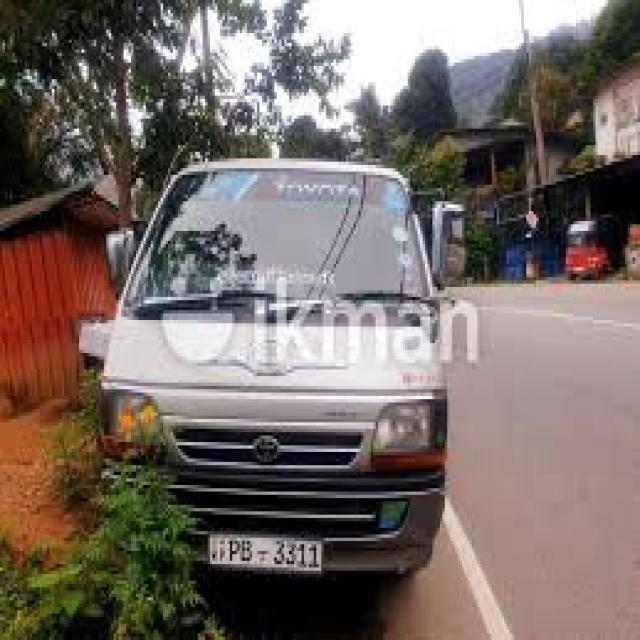van: (101, 158, 474, 574)
